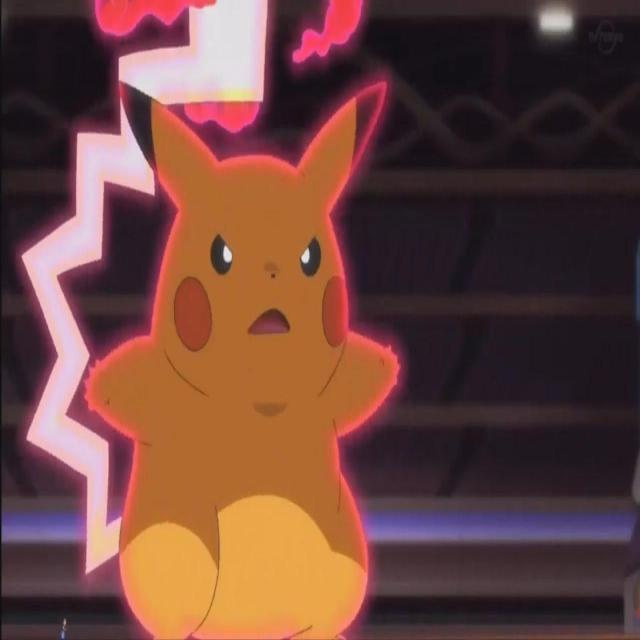pikachu: (80, 67, 405, 640)
